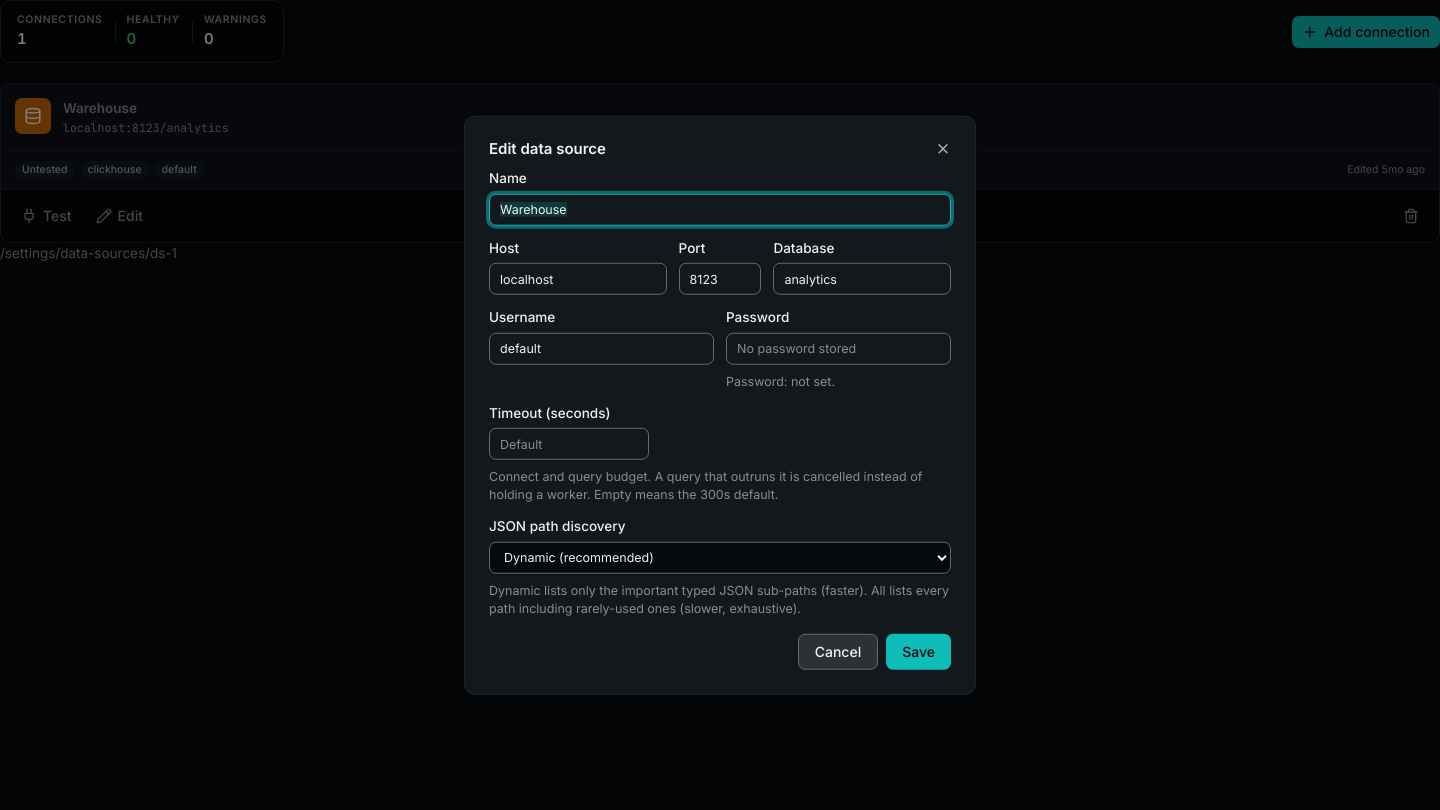
Test: DataSourcesPage › closes a directly opened edit dialog after save
The width and height of the screenshot is (1440, 810).
Expected: the dialog "Edit data source" is shown, [464,116,976,694]
Type "120" into the number field with placeholder "Default" at coordinates (569, 444), box [489,428,649,460]
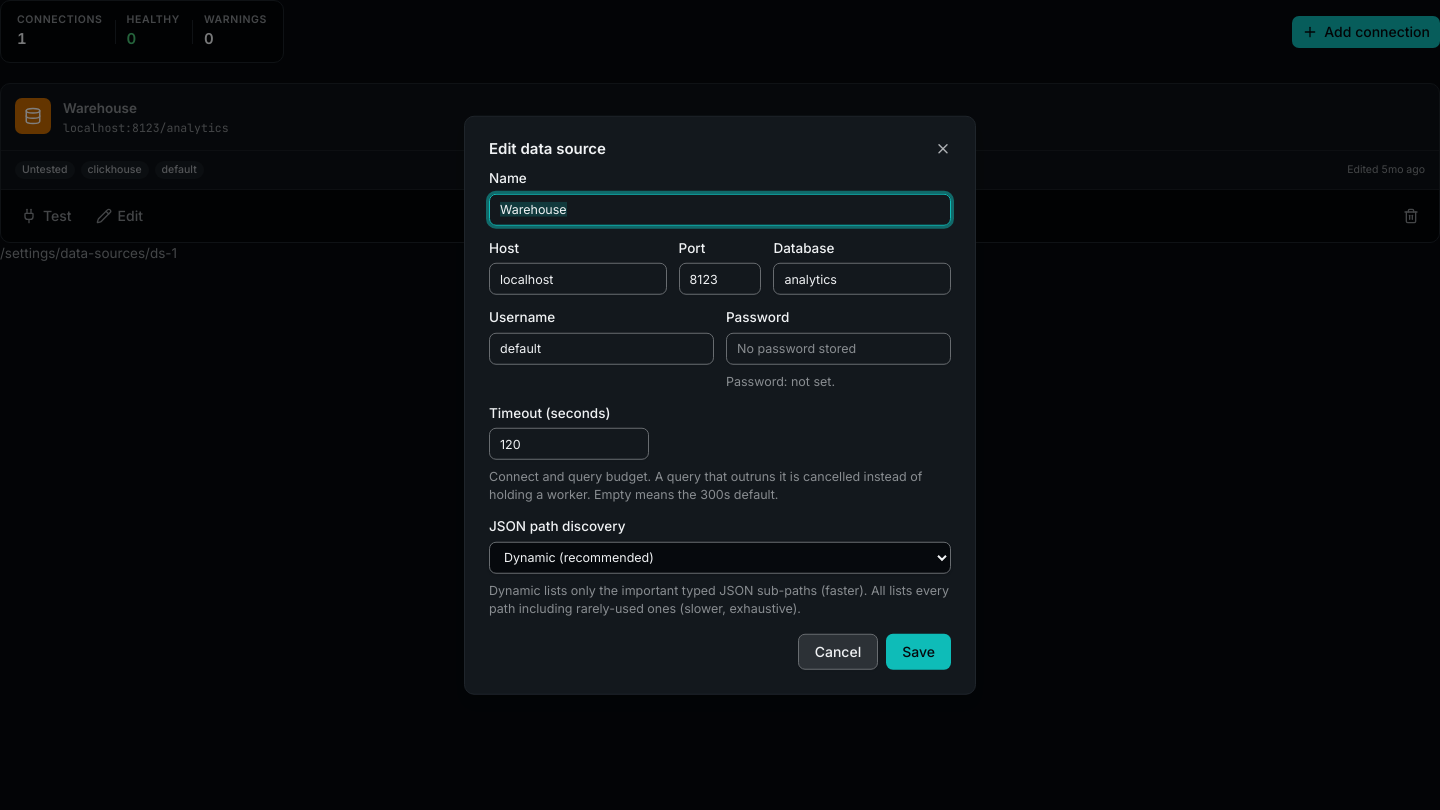
Click the button "Save" at coordinates (919, 651), box [886,633,951,669]
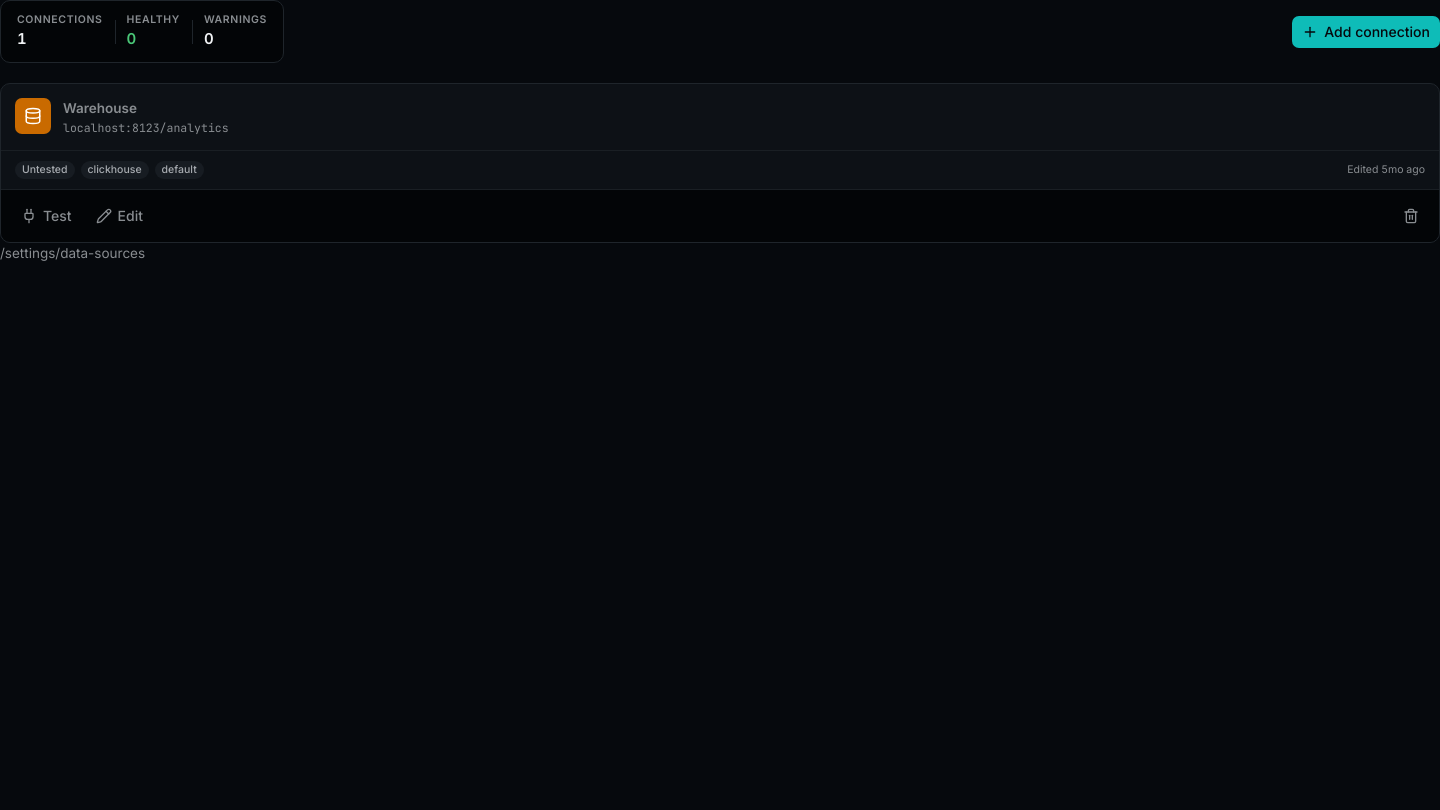
Expected: the heading "Edit data source" is gone
Expected: the text with test id "location" reads "/settings/data-sources", [0,245,145,261]
